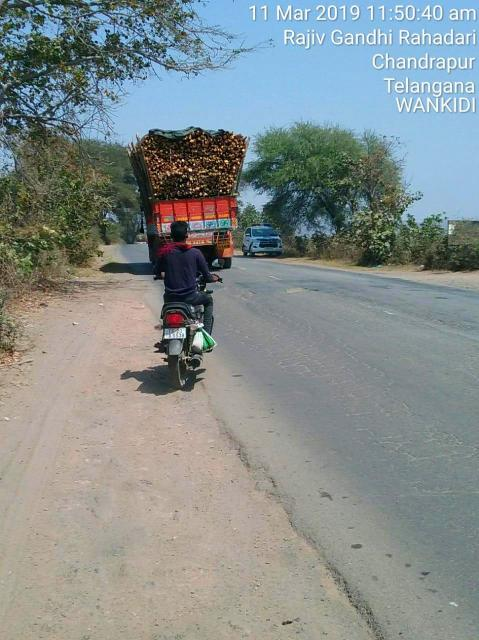motor: (157, 304, 205, 390)
non-helm: (171, 223, 190, 245)
